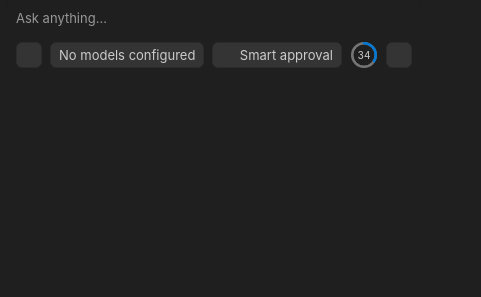
Scenario: Composer context ring › carries pi's own statistics too — tokens, cost and the two counts
Hover over the picture with id "ctx-ring" at (364, 55), box [350,41,378,69]
Wait 600 ms
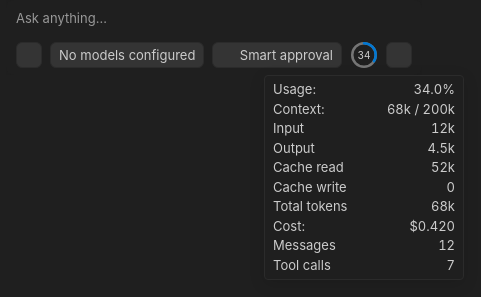
Check: the text with class "ctx-row-value" reads "12k", box [431,120,455,136]
Check: the text with class "ctx-row-value" reads "4.5k", box [428,140,455,156]
Check: the text with class "ctx-row-value" reads "52k", box [431,159,455,175]
